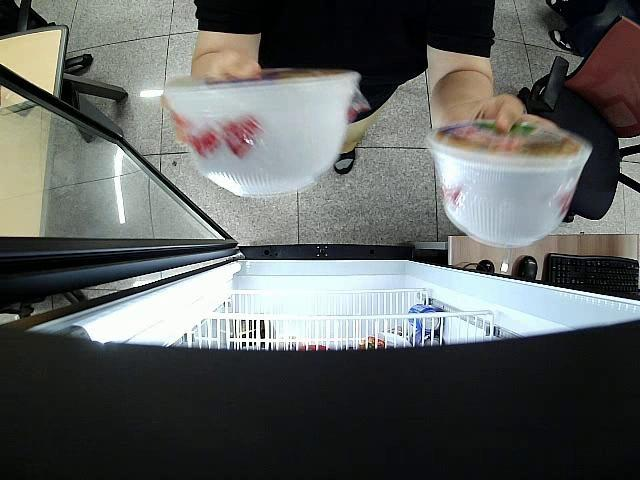09_yukGaeJang: (157, 67, 360, 200), (430, 118, 589, 249)
